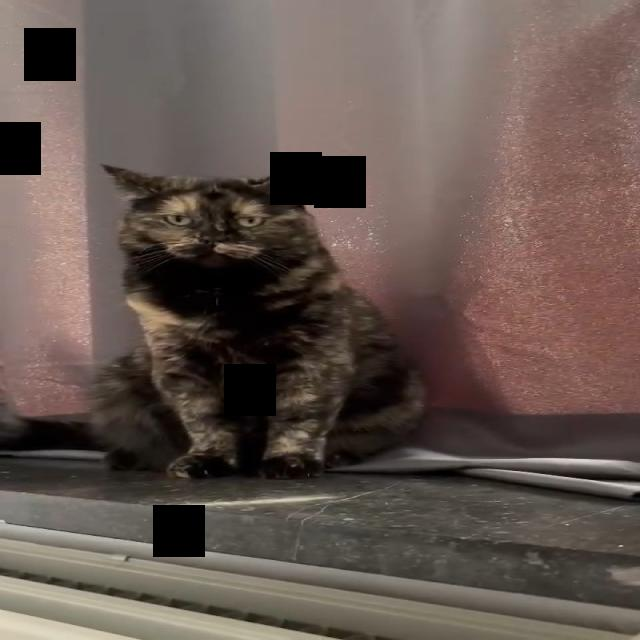authorized: (85, 158, 428, 480)
